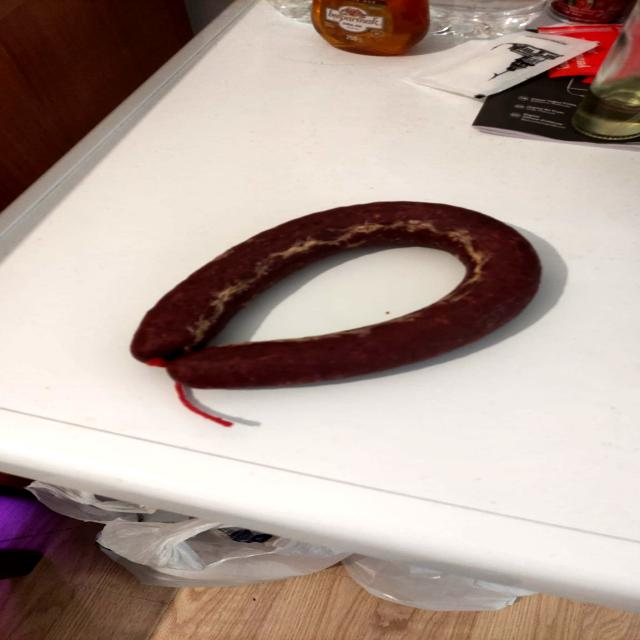sausage: (115, 192, 570, 390)
